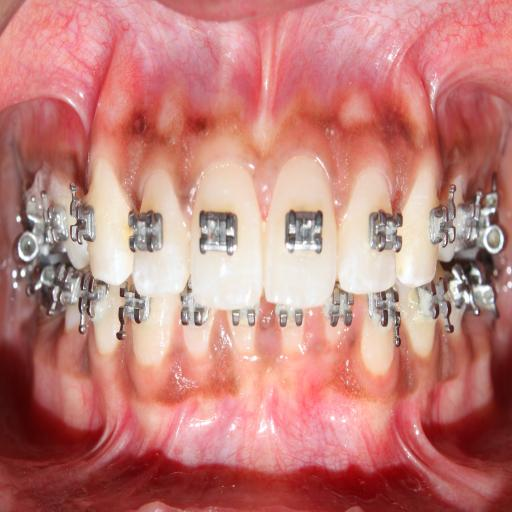correct_brace: (282, 202, 325, 260), (198, 203, 240, 257), (366, 203, 404, 254), (128, 204, 162, 260), (426, 197, 456, 248), (69, 196, 94, 250)
incorrect_brace: (344, 146, 400, 298), (128, 167, 188, 299)
